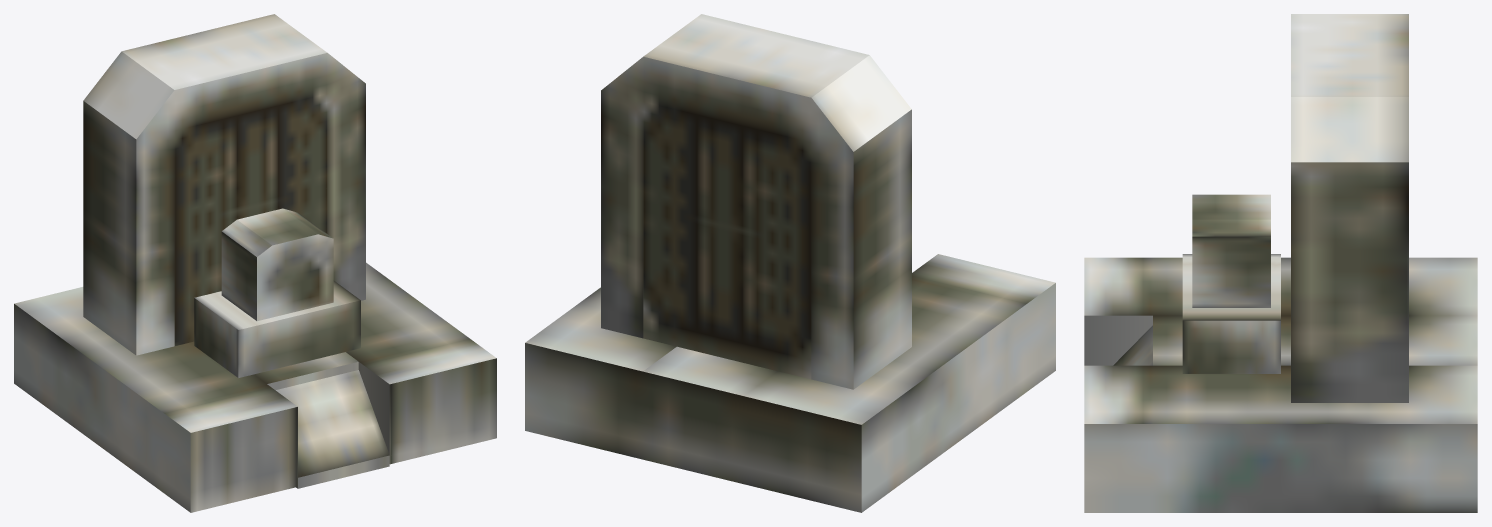
Rendered from Poly_Tomb_Stone_04_Snow.obj.
3 renders of one model, left to right at view 1: azimuth 30°, elevation 25°; view 2: azimuth 150°, elevation 25°; view 3: azimuth 270°, elevation 25°, orthographic. The views are drawn at different scales.
Visible parts, largest first — view 1: Cube.001, Cube; view 2: Cube.001, Cube; view 3: Cube, Cube.001.
Boxes of the visible parts, left/top/right/bottom form: Cube.001: left=83, top=14, right=365, bottom=377; Cube: left=14, top=262, right=496, bottom=512; Cube.001: left=601, top=14, right=911, bottom=389; Cube: left=525, top=254, right=1055, bottom=512; Cube: left=1084, top=257, right=1477, bottom=512; Cube.001: left=1182, top=14, right=1408, bottom=402.
Size of the model in its own units: 0.8065 by 0.852 by 0.8065.
Materials: 1 (1 with a texture image).
